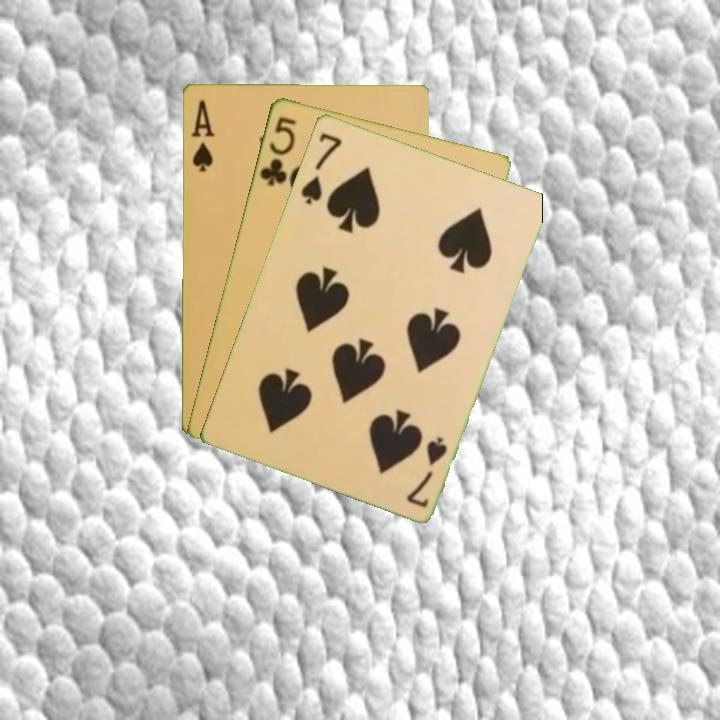5c: (255, 112, 299, 189)
7s: (296, 129, 345, 207), (403, 432, 450, 510)
As: (187, 96, 217, 174)
